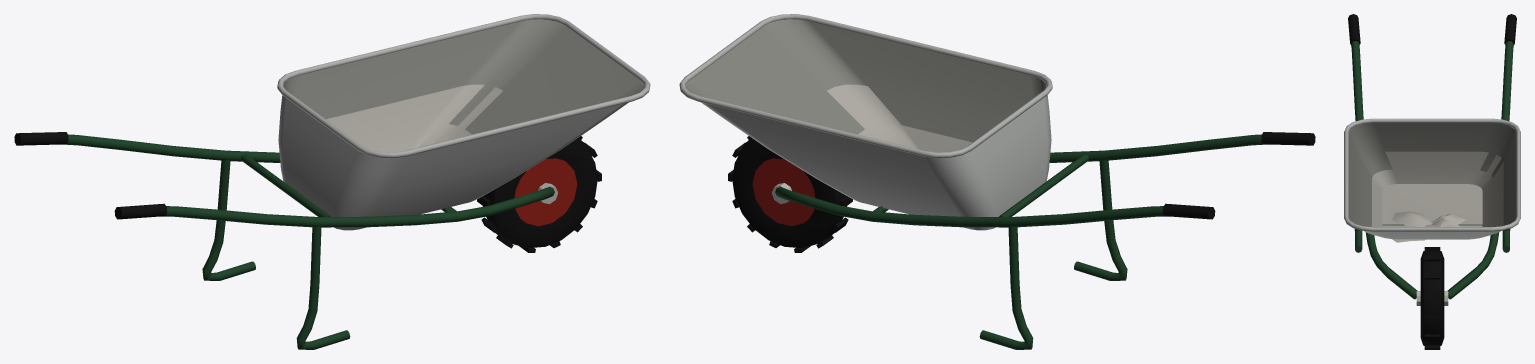
The model's file is wheelbarrow.glb.
The picture shows the model from 3 angles, left to right: view 1: azimuth 30°, elevation 25°; view 2: azimuth 150°, elevation 25°; view 3: azimuth 270°, elevation 25°; orthographic projection. The views are drawn at different scales.
Parts seen in each view (by area): view 1: teil2, teil0, teil5, teil1, teil3, teil9, teil10, teil6, teil8, teil12; view 2: teil2, teil0, teil5, teil3, teil9, teil1, teil10, teil6, teil8, teil12; view 3: teil1, teil2, teil5, teil3, teil9, teil0, teil4, teil12, teil6, teil11.
Part boxes in pixels (box(x1,y1,x2,y2)): teil2: box(284, 19, 644, 134); teil0: box(278, 19, 644, 230); teil5: box(62, 134, 554, 349); teil1: box(326, 84, 502, 152); teil3: box(277, 14, 650, 158); teil9: box(483, 138, 597, 247); teil10: box(514, 158, 577, 226); teil6: box(14, 132, 167, 219); teil8: box(241, 154, 456, 216); teil12: box(477, 136, 601, 252); teil2: box(685, 19, 1045, 142); teil0: box(685, 19, 1051, 230); teil5: box(775, 134, 1267, 349); teil3: box(679, 14, 1052, 158); teil9: box(732, 138, 846, 247); teil1: box(827, 84, 972, 152); teil10: box(752, 158, 815, 226); teil6: box(1162, 132, 1315, 219); teil8: box(873, 154, 1088, 216); teil12: box(728, 136, 852, 252); teil1: box(1372, 151, 1503, 226); teil2: box(1348, 122, 1516, 226); teil5: box(1351, 41, 1513, 299); teil3: box(1344, 118, 1520, 231); teil9: box(1420, 251, 1444, 345); teil0: box(1349, 123, 1515, 239); teil4: box(1392, 211, 1465, 242); teil12: box(1424, 247, 1440, 349); teil6: box(1348, 14, 1516, 45); teil11: box(1416, 291, 1448, 305).
Bounding box in the file's own units: 1.86 × 0.6346 × 0.6699.
